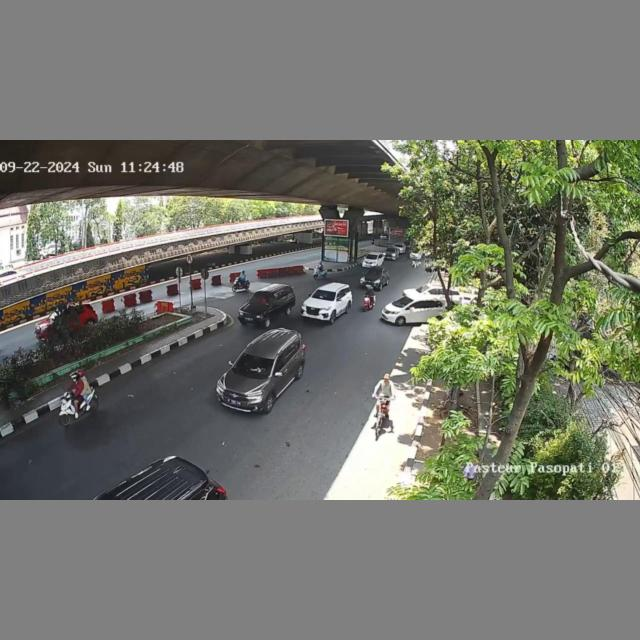windshield: (229, 351, 278, 377), (248, 290, 275, 307), (311, 288, 336, 300), (367, 269, 384, 276)
